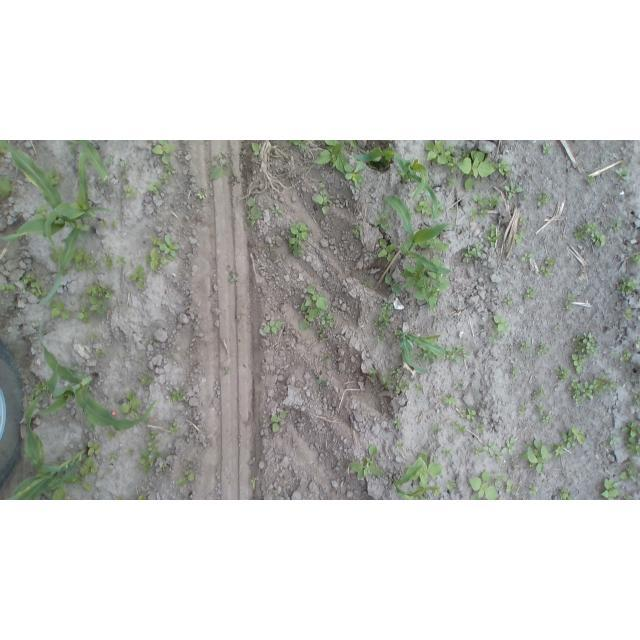Maize: (40, 320, 157, 429), (1, 140, 96, 246), (44, 150, 108, 306), (8, 394, 89, 500), (351, 147, 438, 218), (382, 195, 454, 275), (393, 460, 443, 501), (399, 330, 447, 372), (79, 141, 109, 180)
Weeds: (402, 255, 450, 309), (459, 150, 494, 191), (568, 376, 617, 404), (299, 285, 329, 330), (349, 444, 383, 480), (371, 364, 409, 393), (520, 438, 551, 473), (466, 468, 498, 501), (410, 452, 443, 484), (315, 141, 348, 172), (572, 332, 596, 374), (427, 141, 455, 171), (288, 220, 309, 258), (621, 419, 640, 457), (377, 300, 393, 341), (343, 160, 366, 187), (209, 157, 235, 179), (122, 391, 142, 419), (75, 248, 98, 272), (23, 274, 45, 299), (148, 249, 171, 272), (152, 140, 174, 164), (160, 234, 180, 258), (246, 198, 262, 227), (600, 477, 620, 500), (561, 427, 584, 447), (130, 263, 146, 291), (445, 346, 469, 364), (429, 238, 452, 255), (315, 194, 332, 217), (575, 222, 598, 239), (87, 284, 113, 299), (474, 439, 494, 458), (463, 243, 484, 261), (618, 277, 639, 295), (473, 193, 499, 207), (621, 462, 640, 481), (376, 238, 394, 258), (493, 315, 511, 335), (487, 220, 500, 247), (51, 301, 70, 319), (496, 158, 513, 178), (82, 457, 99, 476), (271, 411, 287, 431), (88, 296, 106, 313), (263, 321, 283, 336), (0, 175, 12, 200), (506, 182, 523, 199), (376, 212, 393, 229), (416, 200, 432, 217), (554, 366, 571, 381), (502, 437, 516, 455), (609, 215, 623, 233), (269, 206, 288, 219), (563, 296, 577, 313), (140, 452, 151, 473), (178, 472, 194, 486), (352, 224, 365, 241), (64, 474, 84, 485), (51, 245, 63, 263), (123, 183, 135, 201), (87, 441, 101, 456), (50, 169, 64, 184), (451, 421, 467, 434), (78, 305, 91, 321), (591, 233, 605, 247), (322, 315, 336, 329), (149, 182, 162, 197), (53, 487, 67, 500), (616, 168, 631, 180), (140, 375, 157, 385), (104, 253, 114, 270), (620, 349, 633, 362), (475, 423, 488, 436), (462, 408, 476, 420), (538, 189, 550, 203), (147, 440, 161, 452), (444, 396, 459, 407), (291, 140, 311, 148), (555, 445, 566, 459), (170, 390, 184, 401), (535, 384, 547, 396), (524, 288, 536, 300), (37, 382, 48, 395), (34, 207, 48, 217), (632, 389, 640, 406), (560, 489, 572, 500), (395, 438, 406, 450), (151, 234, 162, 246), (169, 419, 179, 432), (546, 257, 559, 267), (539, 265, 552, 275), (0, 284, 16, 292), (252, 142, 261, 156), (520, 341, 531, 352), (251, 476, 259, 491), (516, 233, 524, 248), (88, 330, 101, 339), (166, 163, 175, 176), (488, 332, 496, 346), (536, 344, 547, 354), (395, 419, 406, 429), (424, 352, 436, 361), (432, 425, 444, 434), (510, 367, 518, 380), (625, 309, 633, 322), (630, 254, 640, 264), (609, 435, 619, 445), (109, 453, 119, 463), (447, 481, 458, 490), (506, 477, 512, 493), (316, 379, 328, 387), (522, 254, 535, 261), (541, 416, 551, 425), (529, 486, 538, 496), (537, 406, 547, 415), (470, 210, 479, 220), (117, 256, 128, 264), (504, 296, 513, 305), (445, 449, 454, 458), (1, 145, 9, 155), (519, 405, 529, 413), (543, 146, 553, 154), (414, 384, 424, 392), (415, 353, 423, 363), (197, 193, 208, 200), (84, 483, 92, 492), (108, 430, 116, 439), (161, 176, 170, 184), (519, 218, 527, 227), (586, 175, 594, 183), (364, 279, 373, 286), (495, 454, 504, 461), (148, 432, 158, 438), (108, 155, 114, 165), (455, 381, 463, 388), (479, 209, 487, 216), (121, 161, 128, 168), (109, 221, 116, 228), (624, 494, 632, 500), (162, 466, 168, 473), (498, 475, 505, 481), (156, 452, 163, 458), (138, 495, 146, 500), (96, 350, 104, 355), (127, 450, 133, 456), (119, 495, 126, 500), (636, 337, 640, 345), (320, 334, 326, 339), (29, 395, 35, 400), (170, 352, 175, 357), (274, 492, 279, 497)
